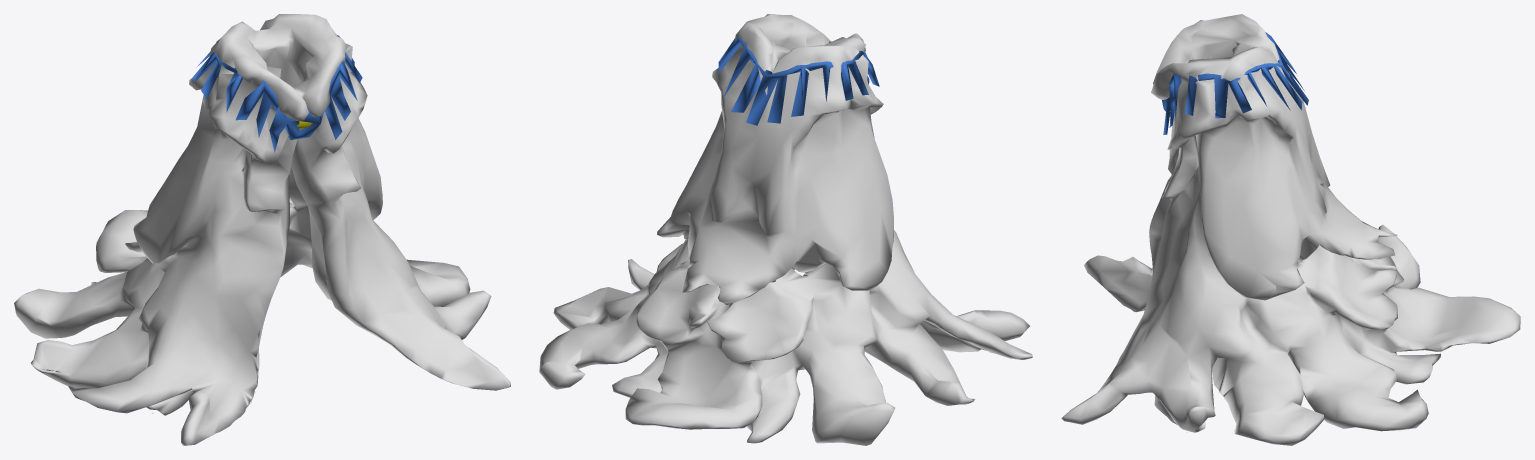
The model's file is brideDressDown.fbx.
3 renders of one model, left to right at view 1: azimuth 30°, elevation 25°; view 2: azimuth 150°, elevation 25°; view 3: azimuth 270°, elevation 25°, orthographic. The views are drawn at different scales.
Visible parts, largest first — view 1: Bride.DressDown; view 2: Bride.DressDown; view 3: Bride.DressDown.
Boxes of the visible parts, x1=… form: Bride.DressDown: x1=14, y1=14, x2=510, y2=445; Bride.DressDown: x1=539, y1=14, x2=1032, y2=445; Bride.DressDown: x1=1061, y1=14, x2=1520, y2=445.
Bounding box in the file's own units: 129 × 95.59 × 122.
